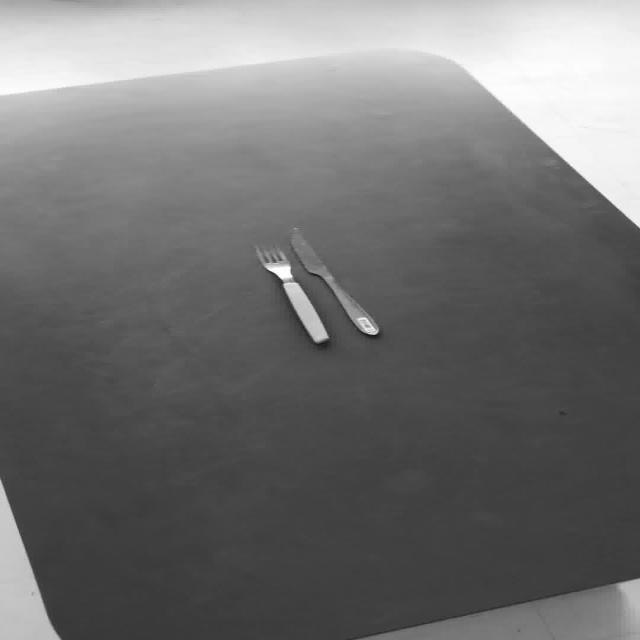fork: (252, 244, 329, 344)
knife fork: (287, 226, 379, 336)
